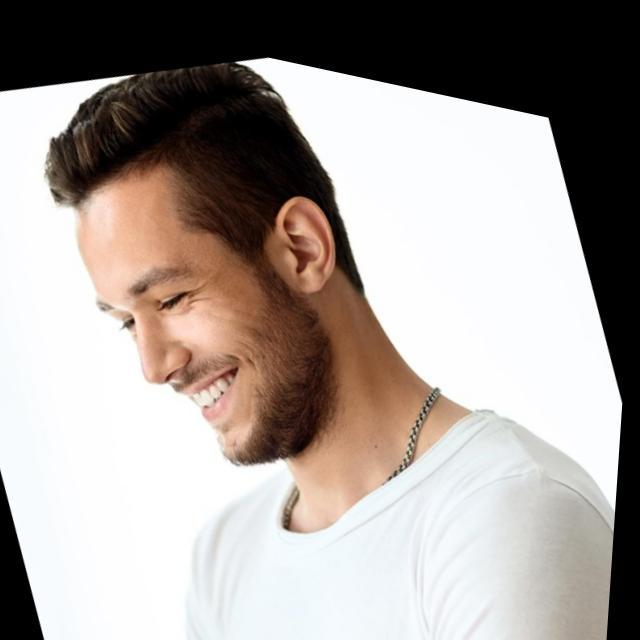Nonhelmet: (27, 53, 370, 476)
